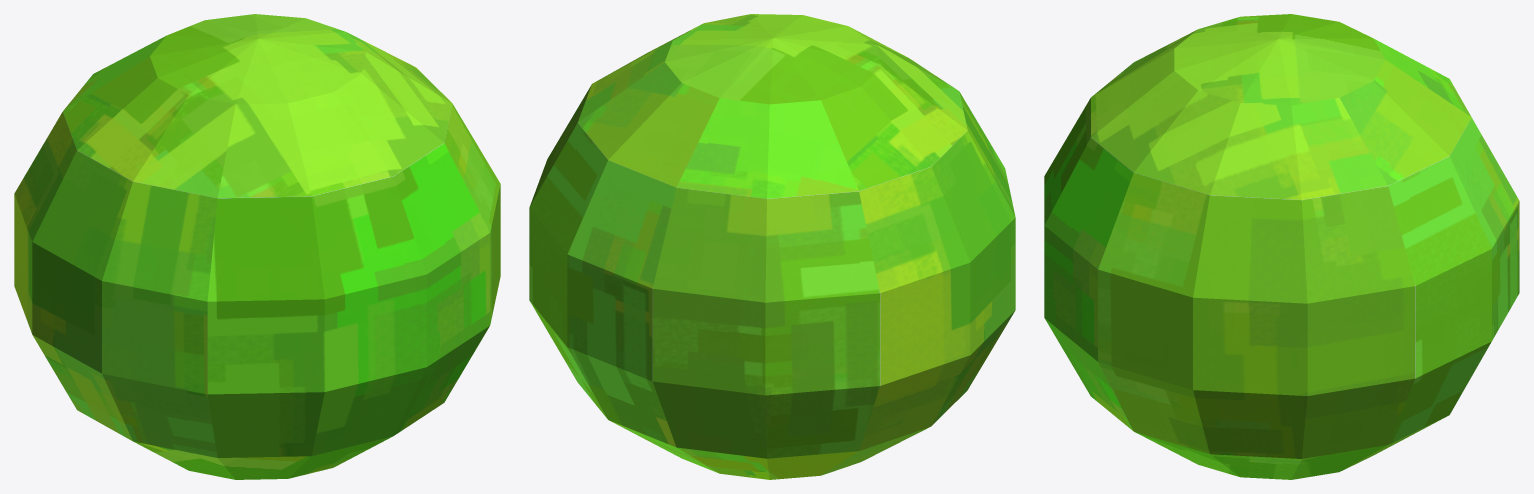
File: salade.fbx
3 renders of one model, left to right at view 1: azimuth 30°, elevation 25°; view 2: azimuth 150°, elevation 25°; view 3: azimuth 270°, elevation 25°, orthographic.
Parts seen in each view (by area): view 1: sphere; view 2: sphere; view 3: sphere.
Part boxes in pixels (<box>): sphere: <box>14,14,500,479</box>; sphere: <box>529,14,1015,479</box>; sphere: <box>1044,14,1519,479</box>.
Bounding box in the file's own units: 79.68 × 75 × 77.7.
1 material, 1 textured.
